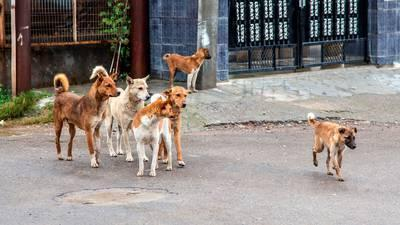normal_dogs: (51, 72, 120, 164), (95, 68, 153, 162), (307, 112, 359, 185), (160, 84, 200, 170), (132, 95, 172, 180), (163, 44, 212, 95)
